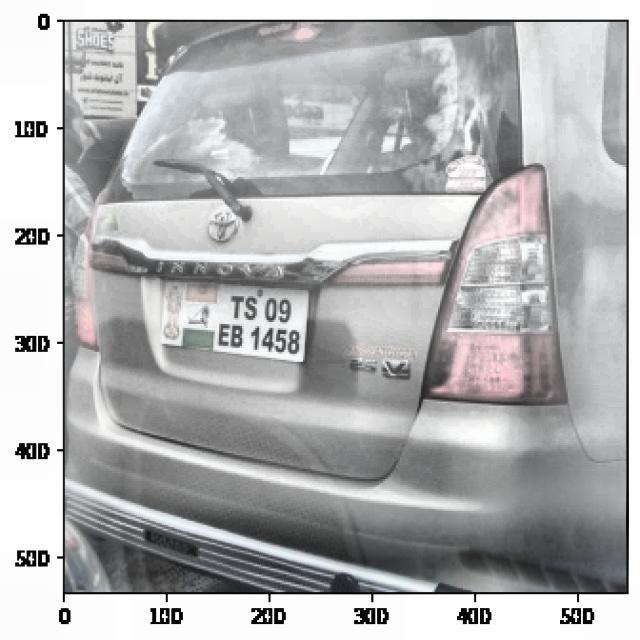license_plate: (208, 287, 306, 358)
